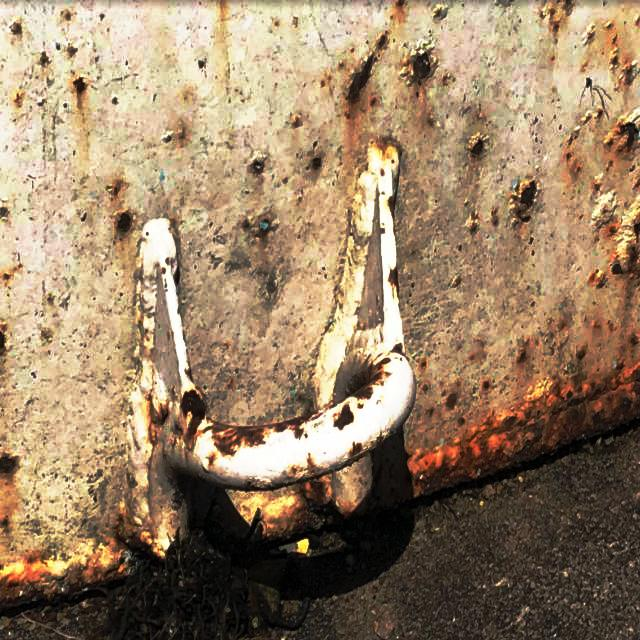Corrosion: (0, 321, 640, 628), (339, 0, 412, 124), (613, 195, 640, 274), (401, 39, 439, 84), (606, 108, 640, 153), (582, 77, 611, 124), (512, 179, 539, 226), (542, 0, 576, 30), (242, 211, 277, 240), (567, 129, 584, 176), (467, 133, 490, 156), (114, 210, 133, 236), (621, 60, 640, 84), (610, 32, 621, 68), (389, 267, 400, 298), (250, 153, 266, 174), (467, 211, 481, 234), (106, 179, 123, 196), (0, 456, 16, 474), (518, 340, 530, 364), (584, 23, 597, 44), (72, 75, 86, 94), (433, 3, 449, 18), (0, 322, 7, 356), (8, 18, 21, 34), (0, 516, 10, 534), (577, 345, 589, 360), (291, 113, 303, 128), (389, 191, 396, 216), (311, 155, 322, 170), (13, 91, 23, 106), (605, 20, 617, 32), (39, 51, 49, 64), (594, 321, 604, 334), (492, 208, 499, 226), (496, 0, 514, 6), (560, 320, 569, 330), (609, 321, 617, 332), (421, 360, 428, 370), (484, 381, 491, 390)
